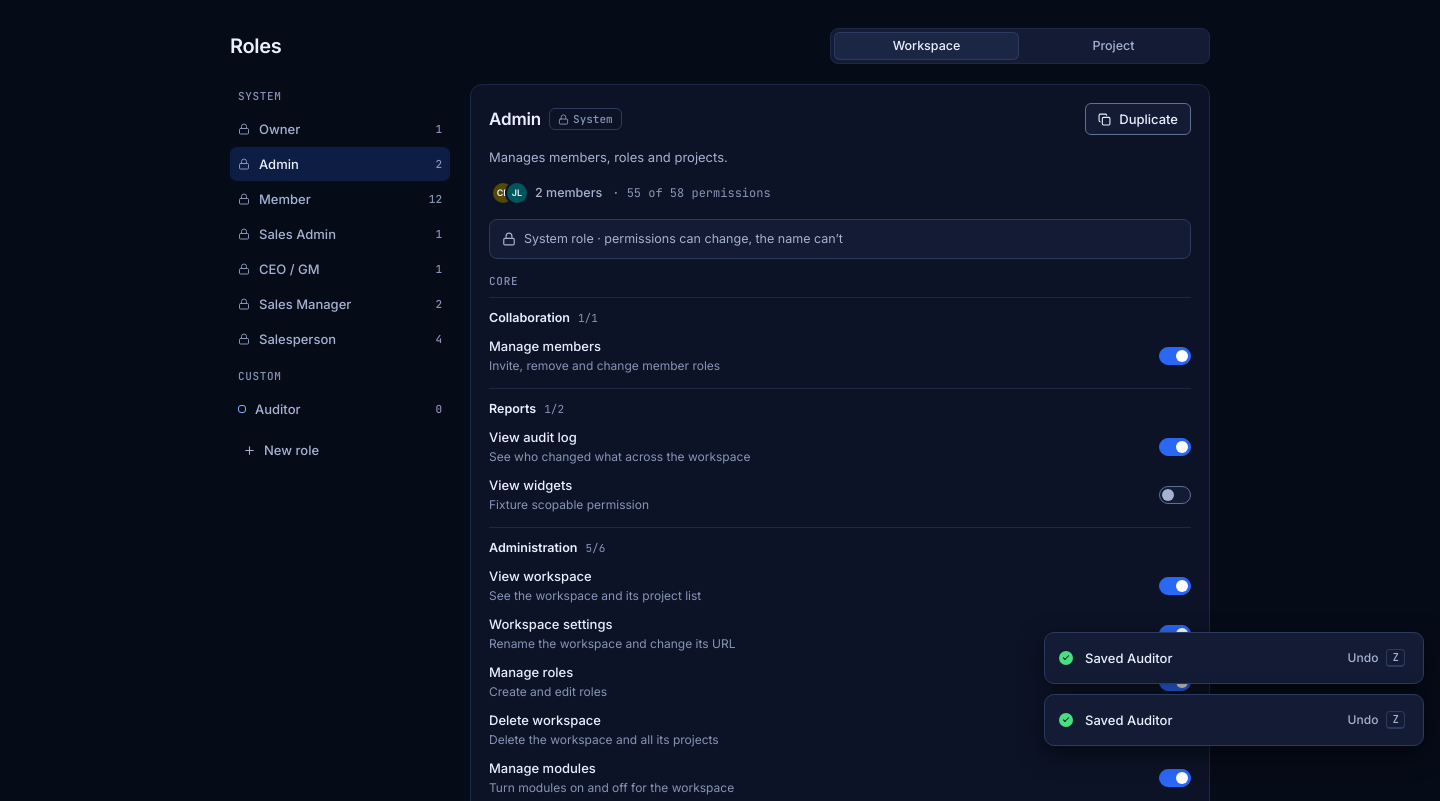
Test case: RolesScreen data scope › shows data_scope_required from the server against the codes it names
This screenshot has width=1440, height=801.
Click the button "Auditor 0" at (340, 409), box [230, 392, 450, 426]
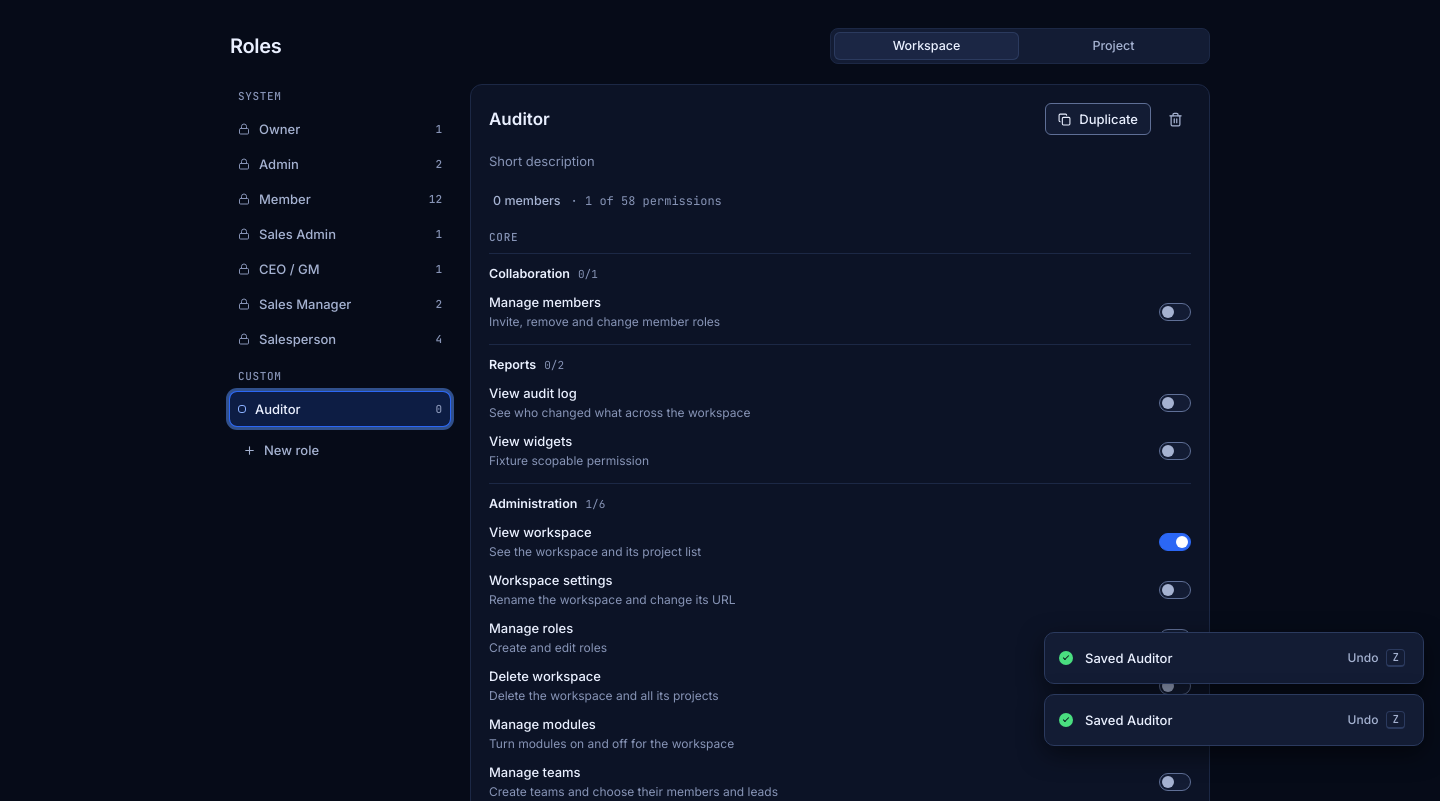
Click the switch labelled "View widgets Fixture scopable permission" at (1175, 451), box [1159, 442, 1191, 460]
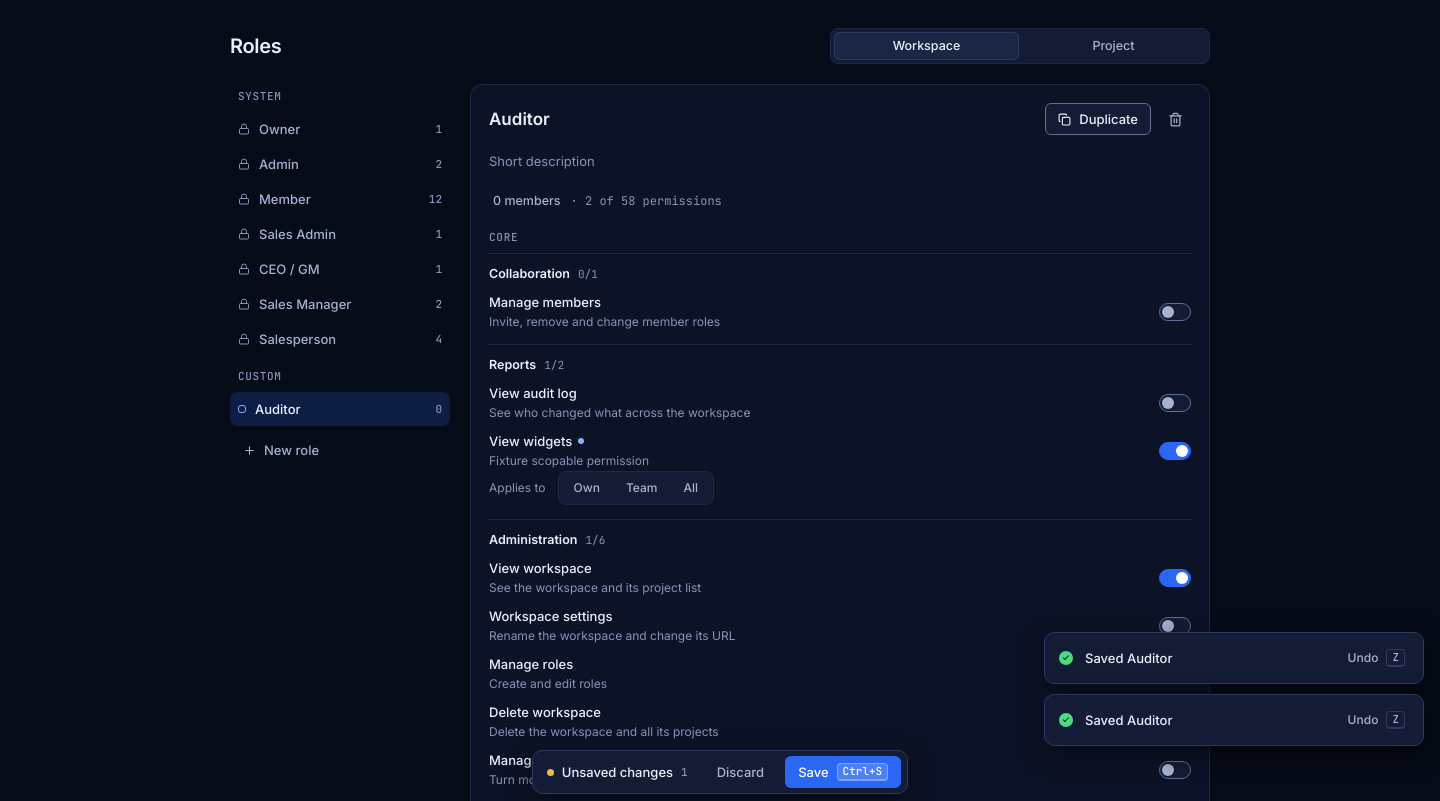
Click the button "All" at (691, 488), box [671, 475, 710, 501]
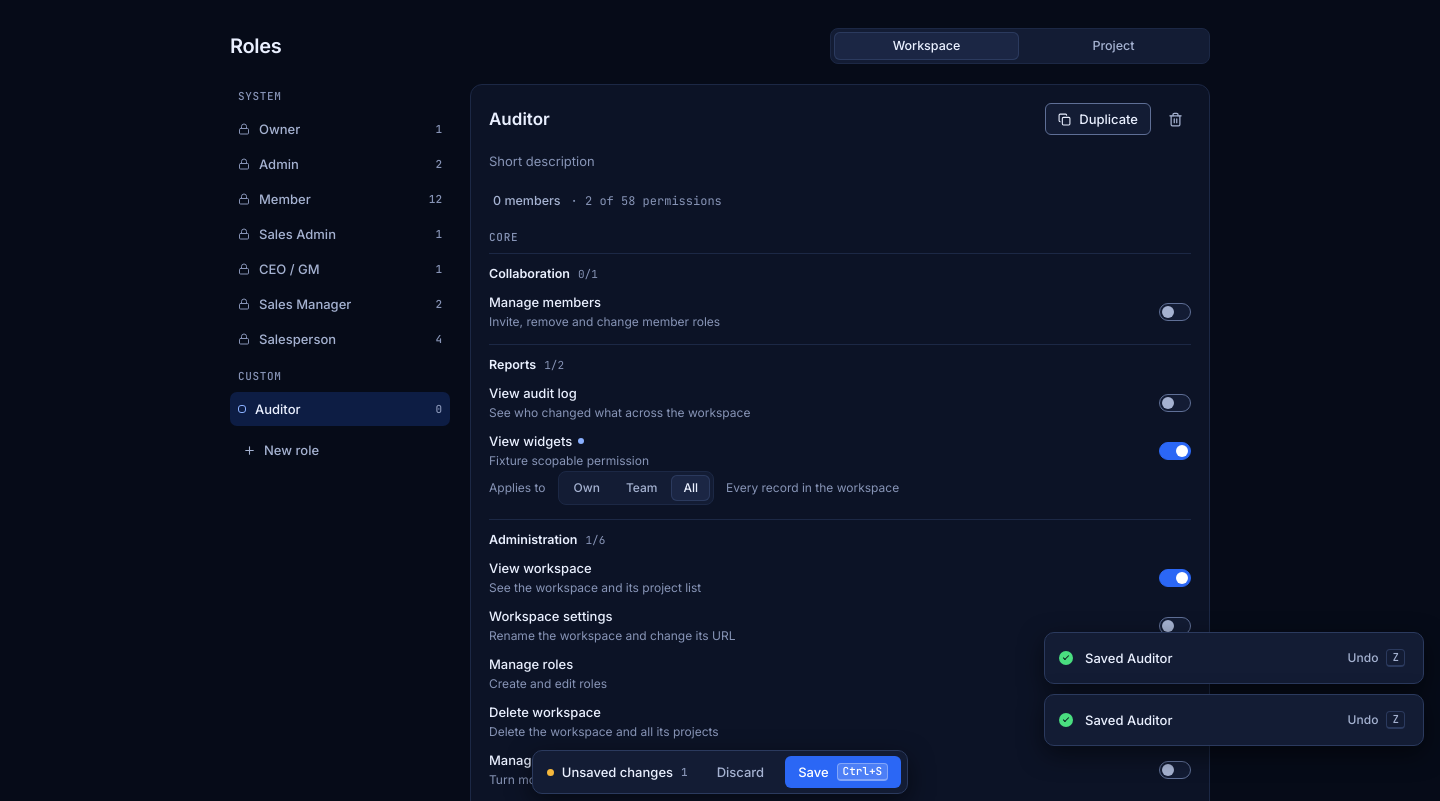
Click the button "Save Ctrl+S" at (843, 772), box [785, 756, 901, 788]
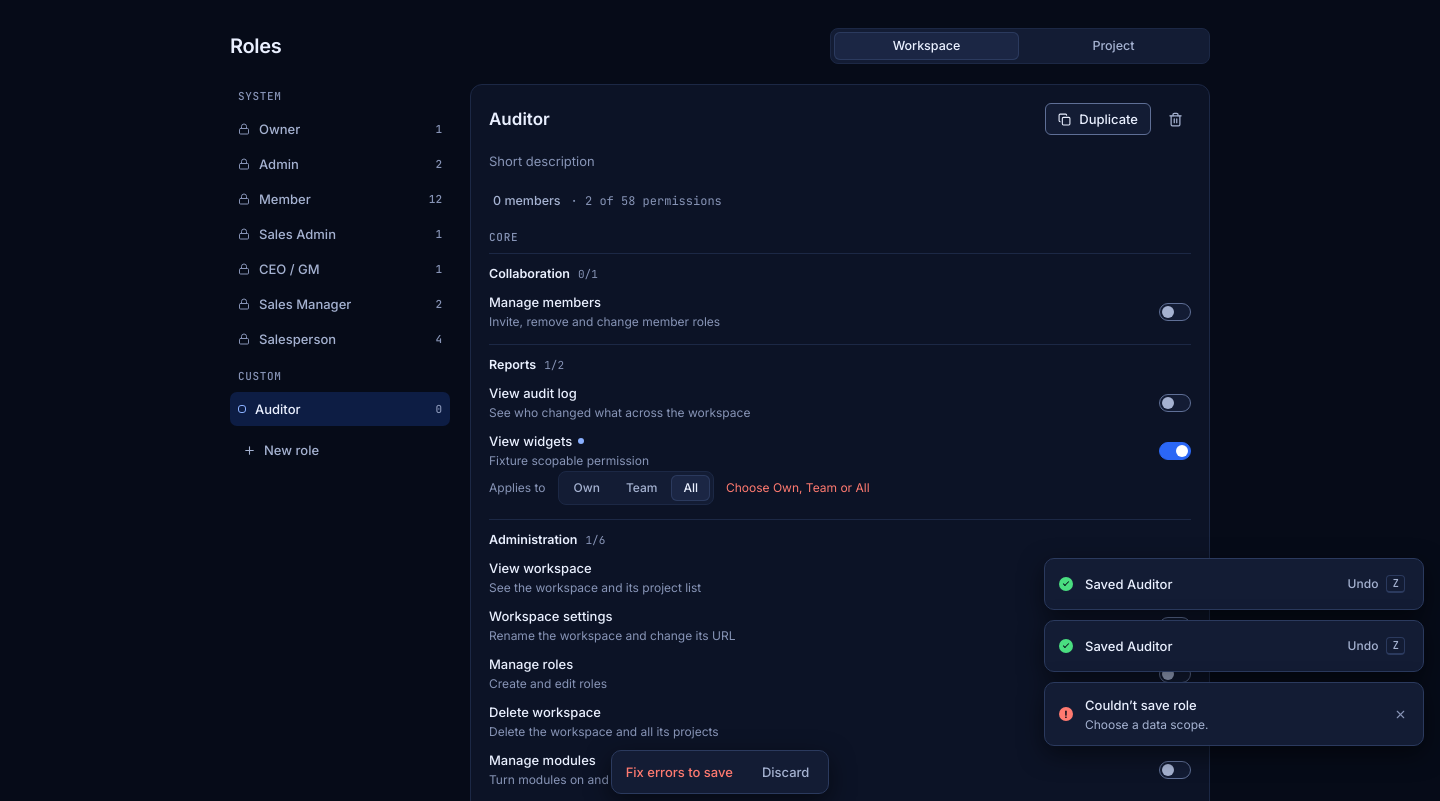
expect the text "Choose Own, Team or All" is shown: met, box [726, 478, 870, 498]
expect the text "Couldn’t save role" is shown: met, box [1085, 697, 1197, 713]
